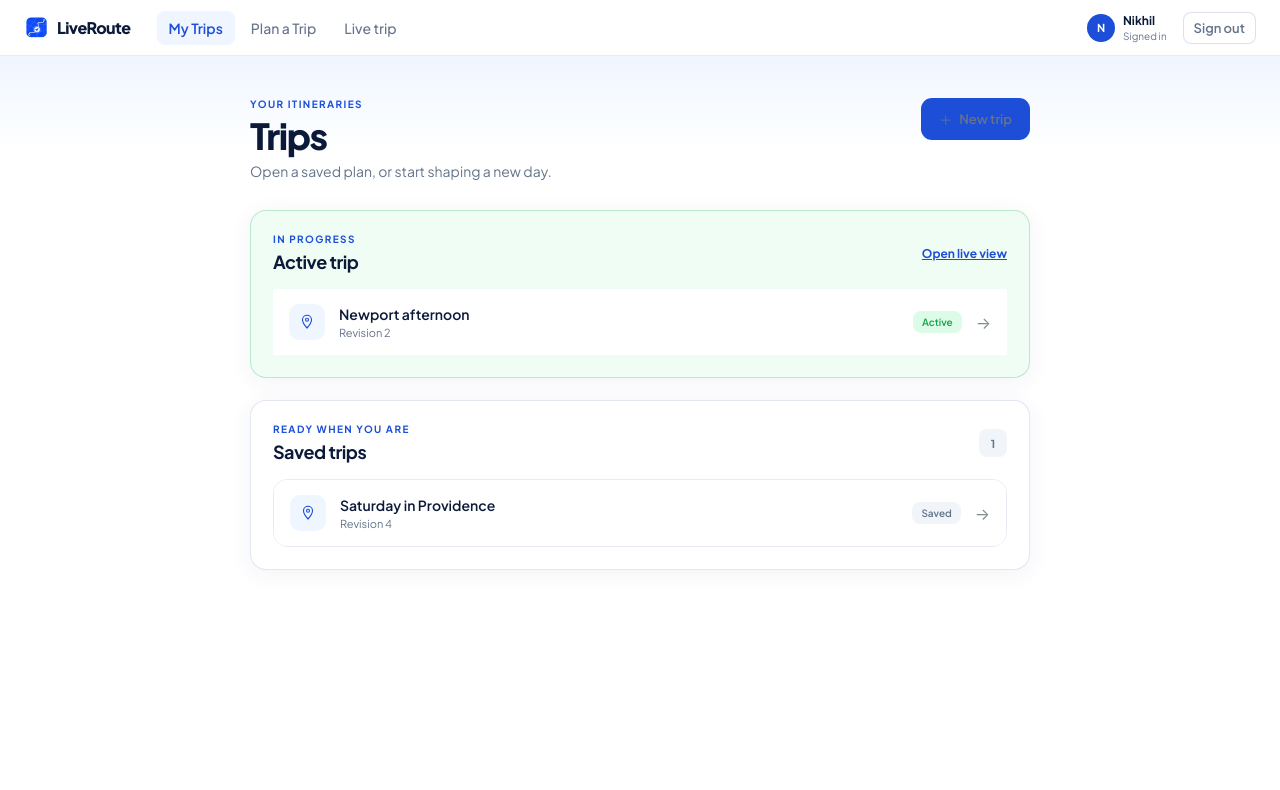
Scenario: App session restoration › revokes the session from the application shell
Click the button "Sign out": (1219, 28) [1183, 12, 1256, 44]
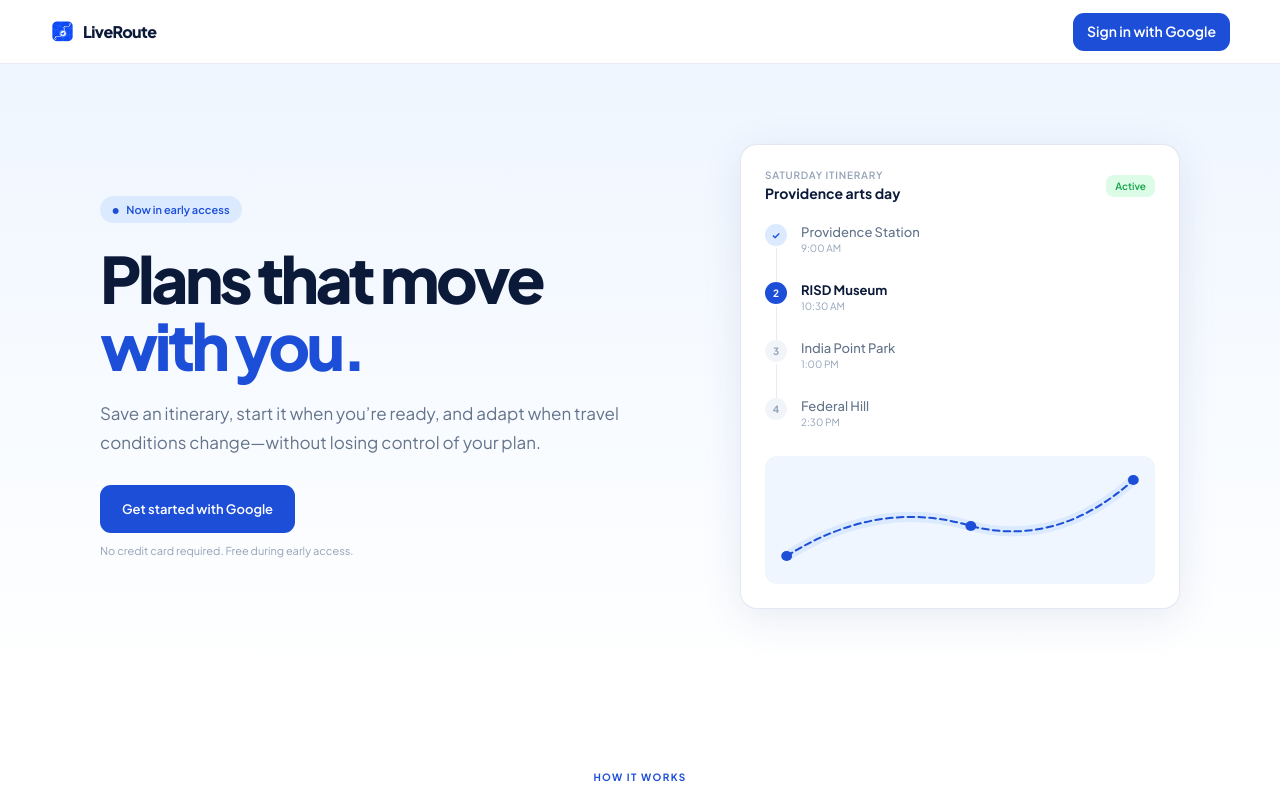
Result: the heading "Plans that move" is shown at [100, 245, 542, 379]
